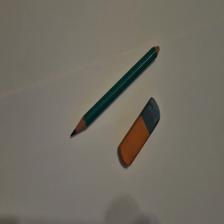eraser: (119, 98, 162, 168)
pencil: (71, 46, 161, 138)
